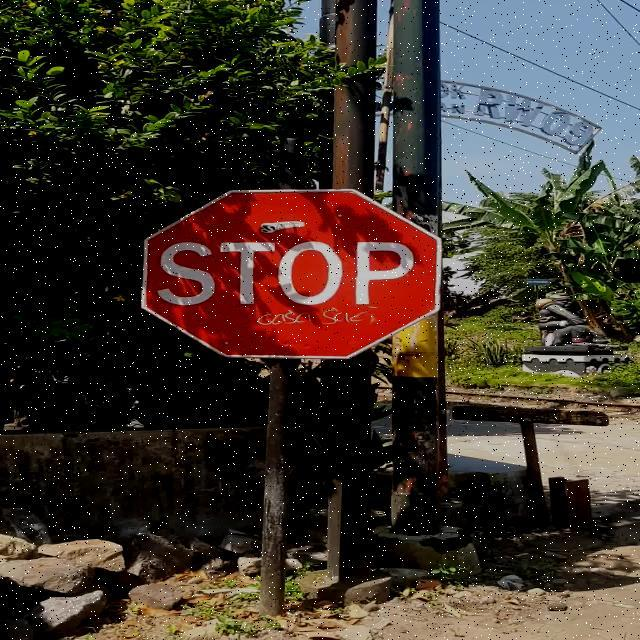Berhenti: (141, 188, 442, 360)
